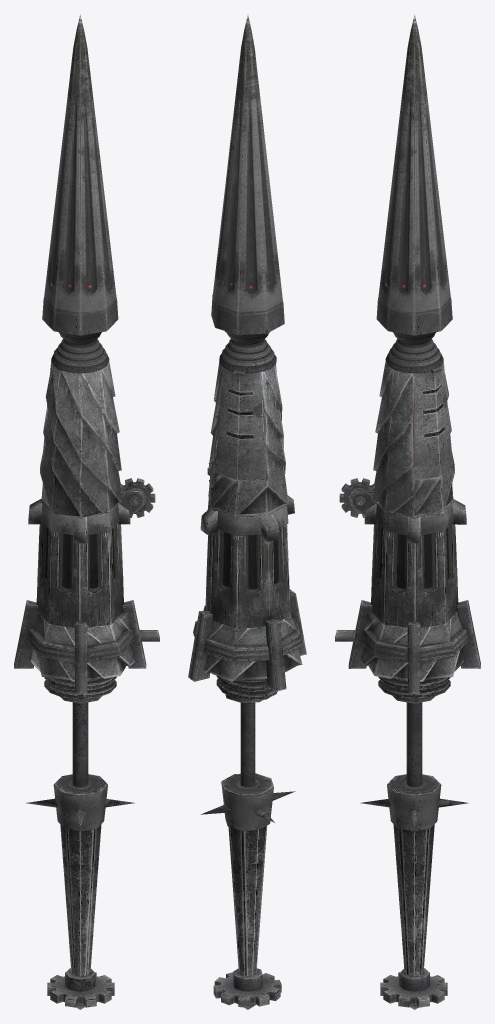
File: gun021.obj
The picture shows the model from 3 angles, left to right: view 1: azimuth 90°, elevation 25°; view 2: azimuth 210°, elevation 25°; view 3: azimuth 270°, elevation 25°; orthographic projection.
Parts seen in each view (by area): view 1: gun021_000_LOD_1, gun021_001_LOD_1; view 2: gun021_000_LOD_1, gun021_001_LOD_1, gun021_002_LOD_1; view 3: gun021_000_LOD_1, gun021_001_LOD_1, gun021_002_LOD_1.
Boxes of the visible parts, left/top/right/bottom form: gun021_000_LOD_1: left=14, top=478, right=159, bottom=1009; gun021_001_LOD_1: left=40, top=14, right=146, bottom=517; gun021_000_LOD_1: left=188, top=463, right=306, bottom=1009; gun021_001_LOD_1: left=208, top=15, right=288, bottom=517; gun021_002_LOD_1: left=215, top=367, right=265, bottom=480; gun021_000_LOD_1: left=335, top=478, right=480, bottom=1009; gun021_001_LOD_1: left=348, top=14, right=454, bottom=517; gun021_002_LOD_1: left=414, top=361, right=452, bottom=480.
Size of the model in its own units: 45.52 by 385 by 51.07.
